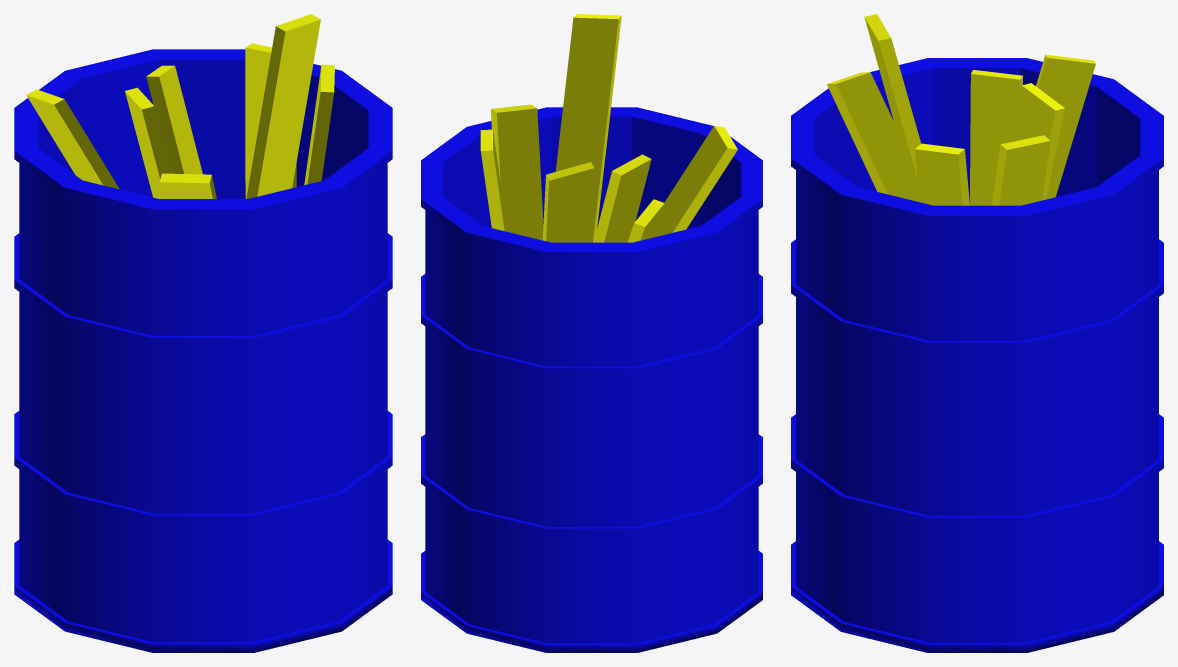
Rendered from Steel Barrel with Wood.fbx.
3 views of the same model, side by side, from view 1: azimuth 30°, elevation 25°; view 2: azimuth 150°, elevation 25°; view 3: azimuth 270°, elevation 25° (orthographic). The views are drawn at different scales.
Parts seen in each view (by area): view 1: Cylinder2577; view 2: Cylinder2577; view 3: Cylinder2577.
Part boxes in pixels (x1,y1,x2,y2): Cylinder2577: (14, 14, 392, 652); Cylinder2577: (421, 14, 762, 652); Cylinder2577: (791, 14, 1163, 652).
Size of the model in its own units: 1 by 1.7 by 1.
